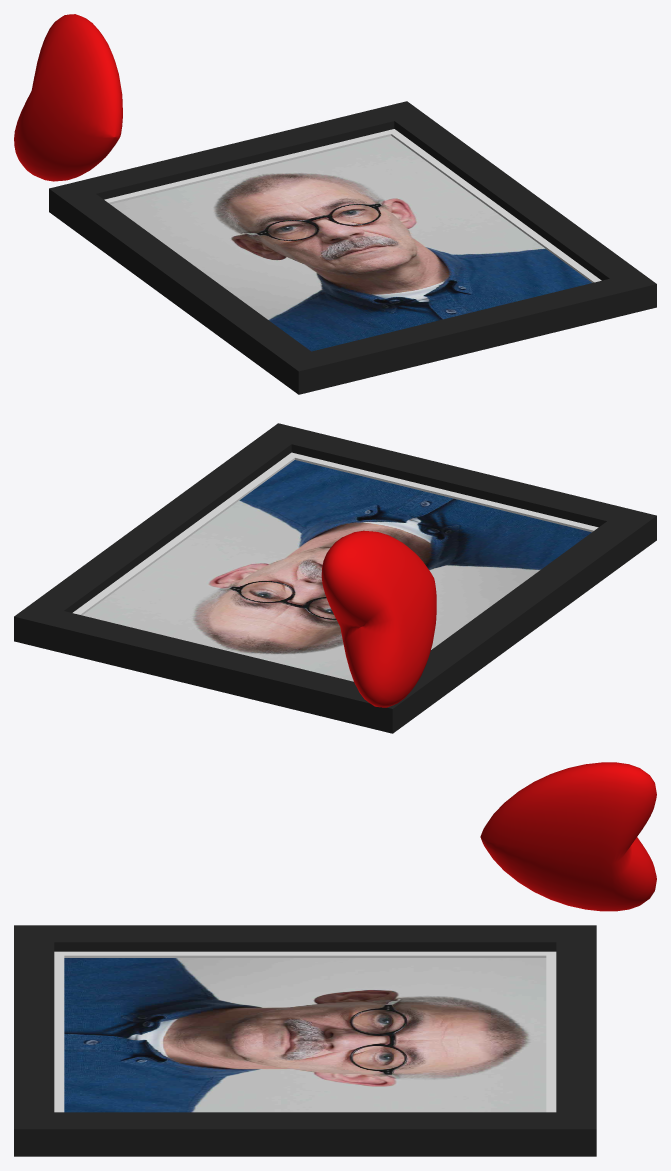
File: Bert_Zelf.glb
3 renders of one model, top to bottom at view 1: azimuth 30°, elevation 25°; view 2: azimuth 150°, elevation 25°; view 3: azimuth 270°, elevation 25°, orthographic. The views are drawn at different scales.
Parts seen in each view (by area): view 1: PhotoPlane.002, BuitenFrame, Hart, BinnenFrame; view 2: PhotoPlane.002, BuitenFrame, Hart, BinnenFrame; view 3: PhotoPlane.002, BuitenFrame, Hart, BinnenFrame.
Boxes of the visible parts, <box> form: PhotoPlane.002: <box>110,136,591,351</box>; BuitenFrame: <box>49,101,656,394</box>; Hart: <box>14,14,122,181</box>; BinnenFrame: <box>104,129,601,282</box>; PhotoPlane.002: <box>82,460,591,681</box>; BuitenFrame: <box>14,423,656,733</box>; Hart: <box>321,530,436,707</box>; BinnenFrame: <box>73,452,598,615</box>; PhotoPlane.002: <box>64,958,546,1112</box>; BuitenFrame: <box>14,925,596,1156</box>; Hart: <box>480,762,656,911</box>; BinnenFrame: <box>54,951,556,1112</box>.
Bounding box in the file's own units: 0.5075 × 0.2302 × 0.6401.
4 materials, 1 textured.
